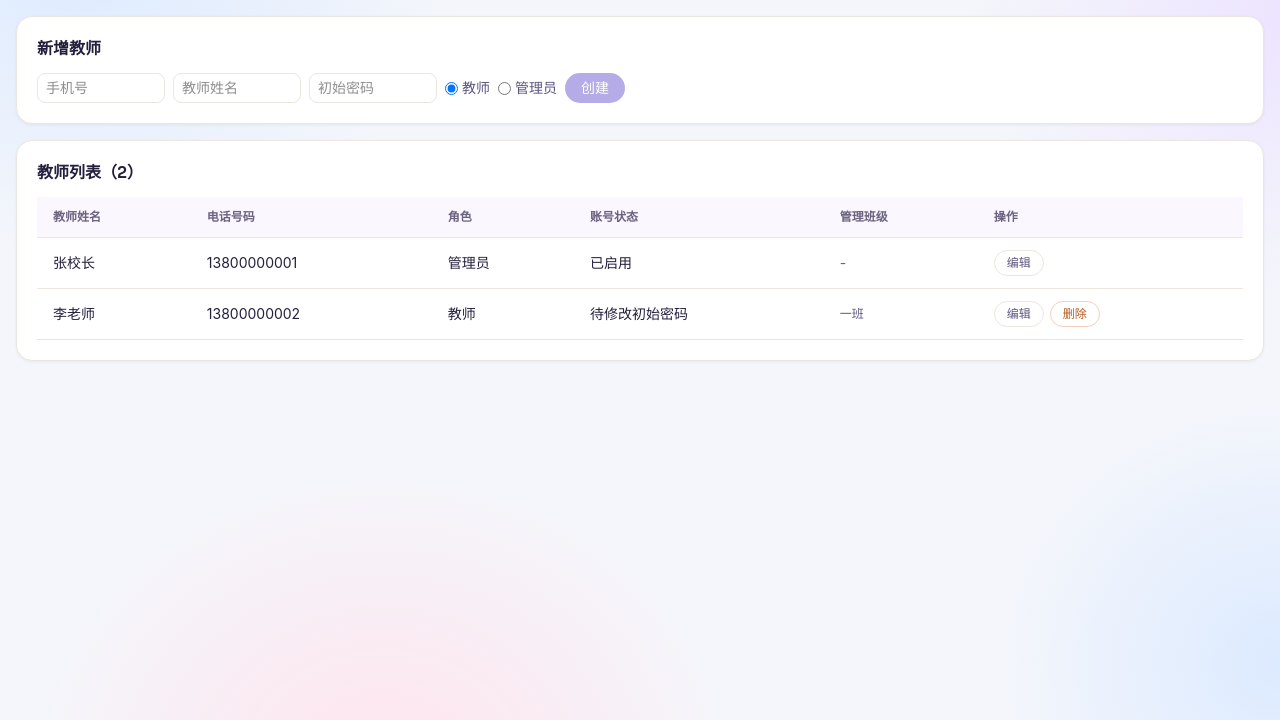
Test case: AdminTeachersModule › deletes the teacher and refreshes the list after confirming
This screenshot has width=1280, height=720.
expect the text "13800000001" is shown: met, box [191, 238, 432, 288]
Click the button with aria-label "删除教师李老师": (1075, 314) [1050, 301, 1100, 327]
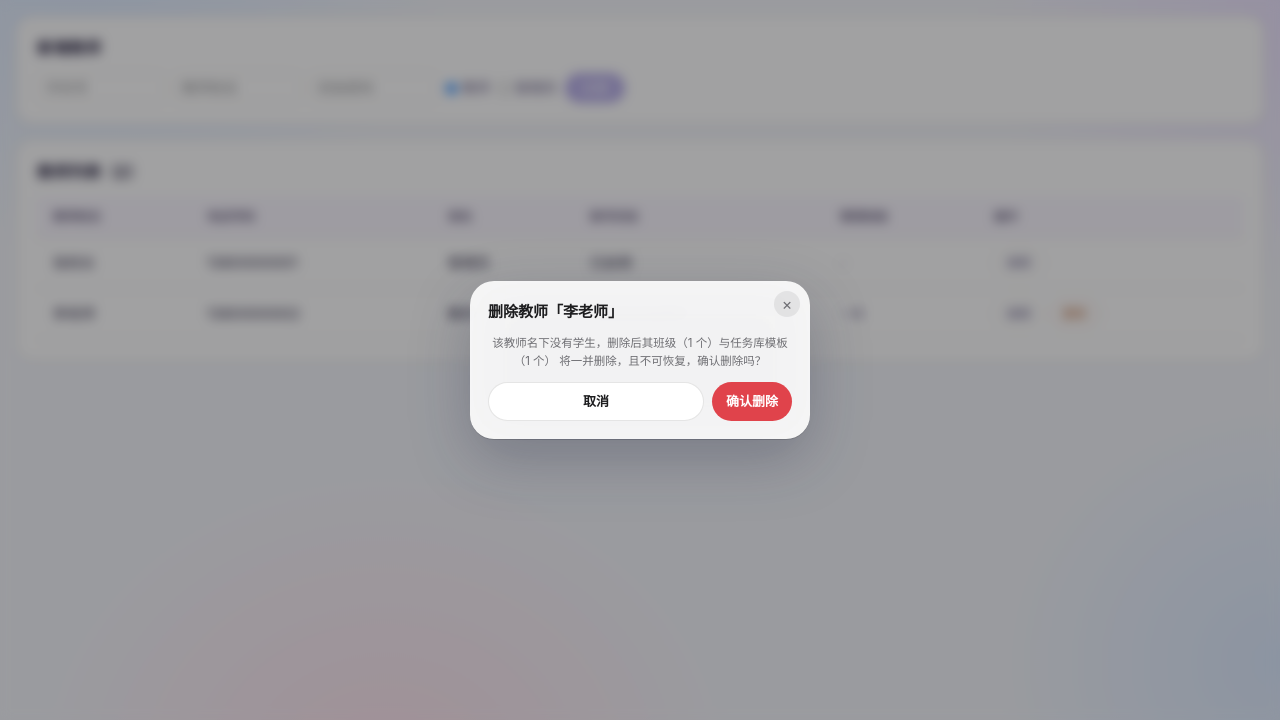
expect the text "该教师名下没有学生，删除后其班级（1 个）与任务库模板（1 个） 将一并删除，且不可恢复，确认删除吗？" is shown: met, box [488, 335, 792, 370]
Click the button "确认删除": (752, 402) [712, 382, 792, 421]
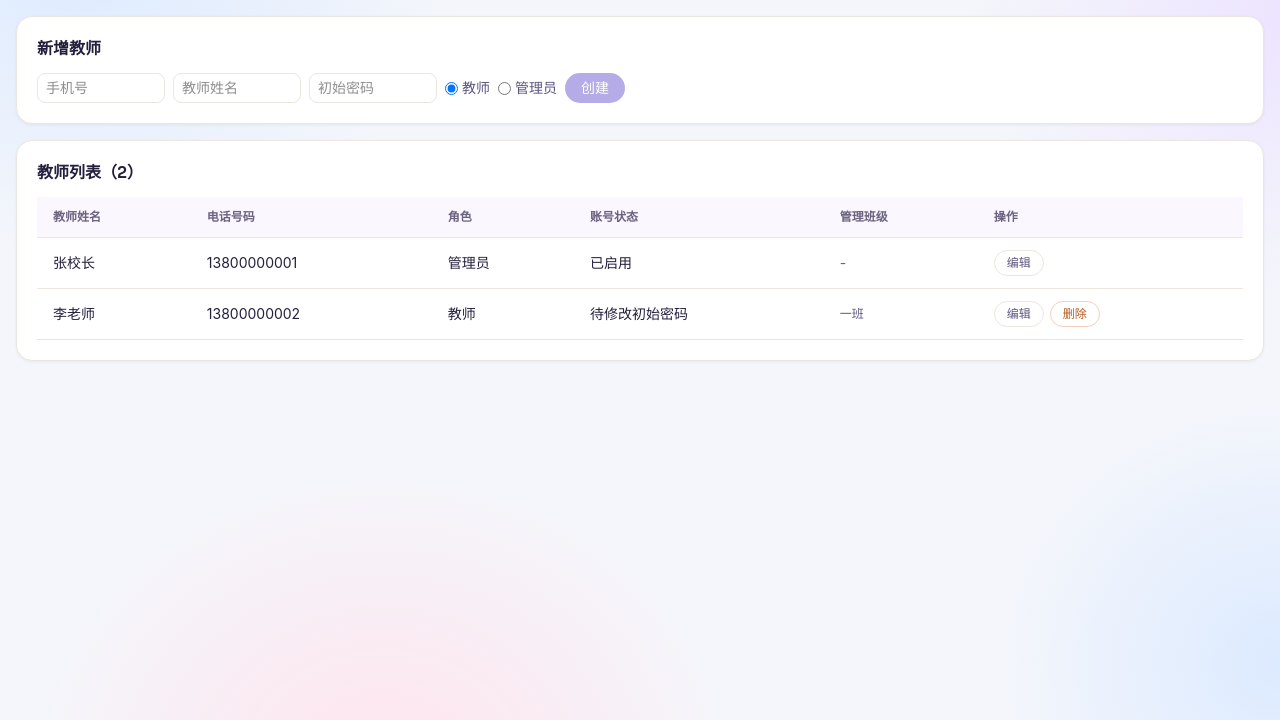
expect the text "该教师名下没有学生" is gone: met
